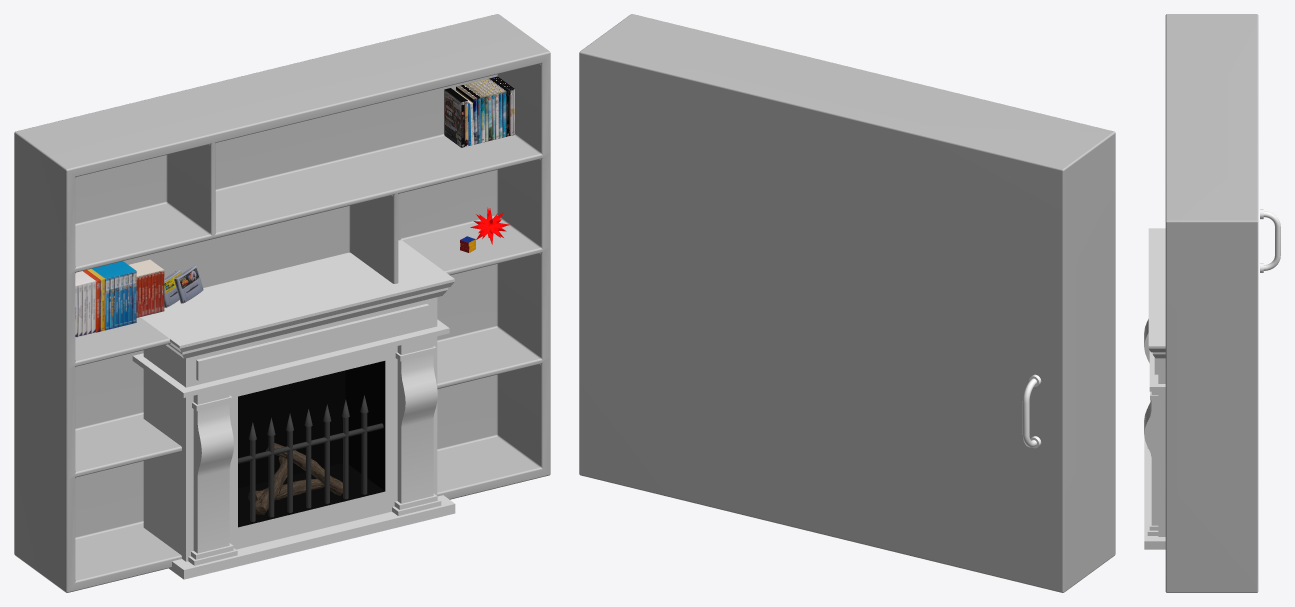
File: fire place shelf.fbx
3 views of the same model, side by side, from view 1: azimuth 30°, elevation 25°; view 2: azimuth 150°, elevation 25°; view 3: azimuth 270°, elevation 25° (orthographic). The views are drawn at different scales.
Parts seen in each view (by area): view 1: shelf, fireplace, fireplace bars, movies, Wii games, fire wood, Switch games, snes cartridge; view 2: shelf, shelf handle; view 3: shelf, fireplace, shelf handle.
Boxes of the visible parts, box(x1,y1,x2,y2) form: shelf: box(14, 14, 550, 592); fireplace: box(132, 240, 455, 579); fireplace bars: box(238, 395, 383, 521); movies: box(444, 76, 514, 147); Wii games: box(75, 261, 136, 337); fire wood: box(248, 443, 342, 514); Switch games: box(129, 259, 164, 317); snes cartridge: box(164, 265, 203, 307); shelf: box(579, 14, 1115, 592); shelf handle: box(1022, 374, 1041, 448); shelf: box(1165, 14, 1258, 592); fireplace: box(1144, 228, 1165, 549); shelf handle: box(1260, 209, 1280, 272).
Size of what is drawn, in the model's own units: 280 by 235 by 77.83.
